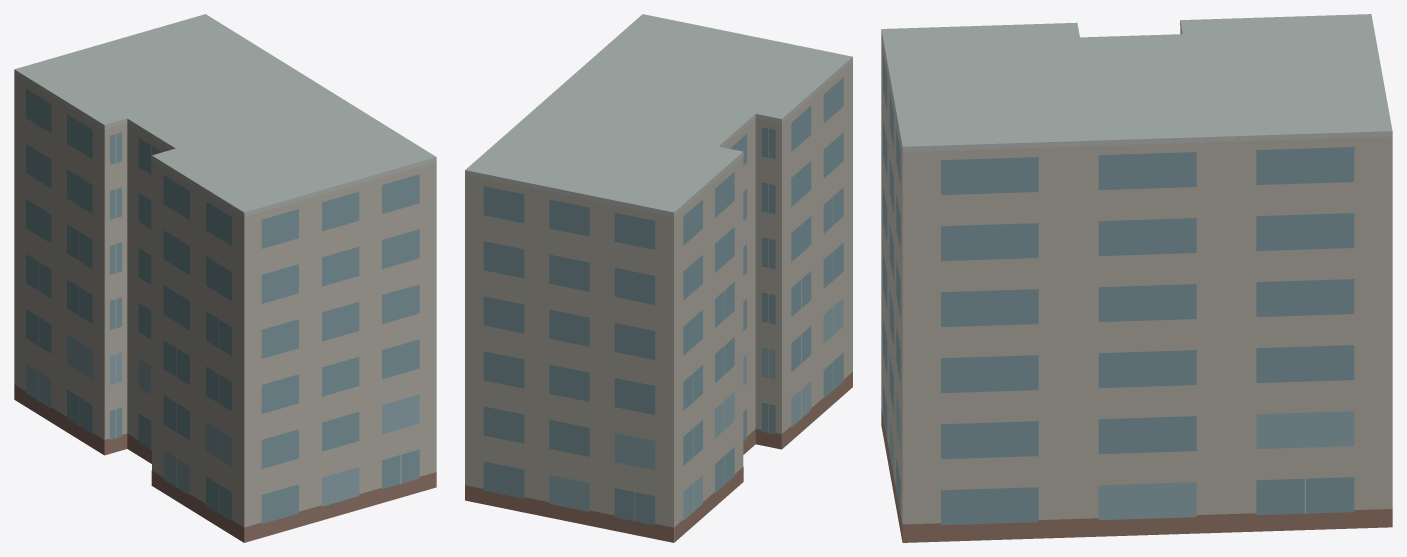
File: survey-upis-32737564.glb
3 views of the same model, side by side, from view 1: azimuth 30°, elevation 25°; view 2: azimuth 150°, elevation 25°; view 3: azimuth 270°, elevation 25° (orthographic). The views are drawn at different scales.
Parts seen in each view (by area): view 1: survey-upis-32737564.tmp; view 2: survey-upis-32737564.tmp; view 3: survey-upis-32737564.tmp.
Part boxes in pixels (x1,y1,x2,y2): survey-upis-32737564.tmp: (14, 14, 436, 542); survey-upis-32737564.tmp: (465, 14, 852, 542); survey-upis-32737564.tmp: (881, 14, 1392, 542).
Size of the model in its own units: 13.09 by 18.2 by 21.3.
